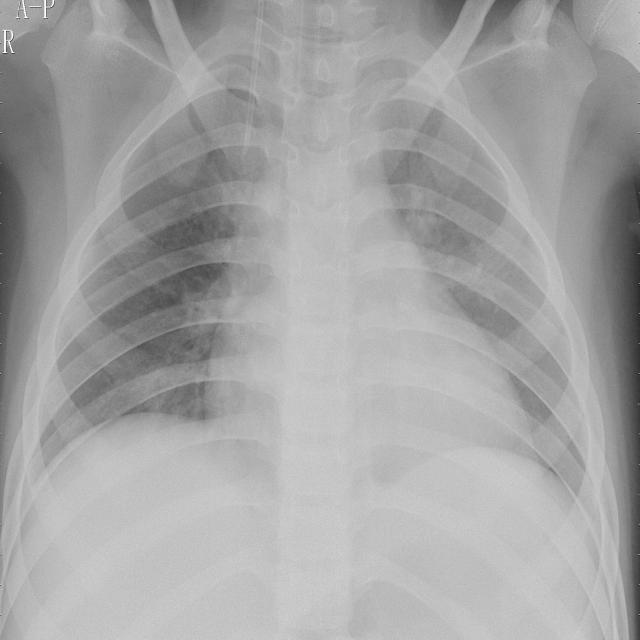low-pneumonia: (347, 29, 443, 180), (147, 276, 227, 423)
